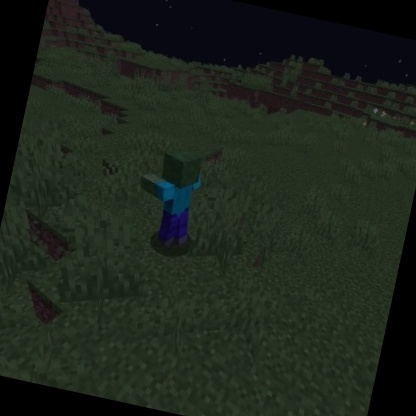zombie: (125, 139, 210, 256)
